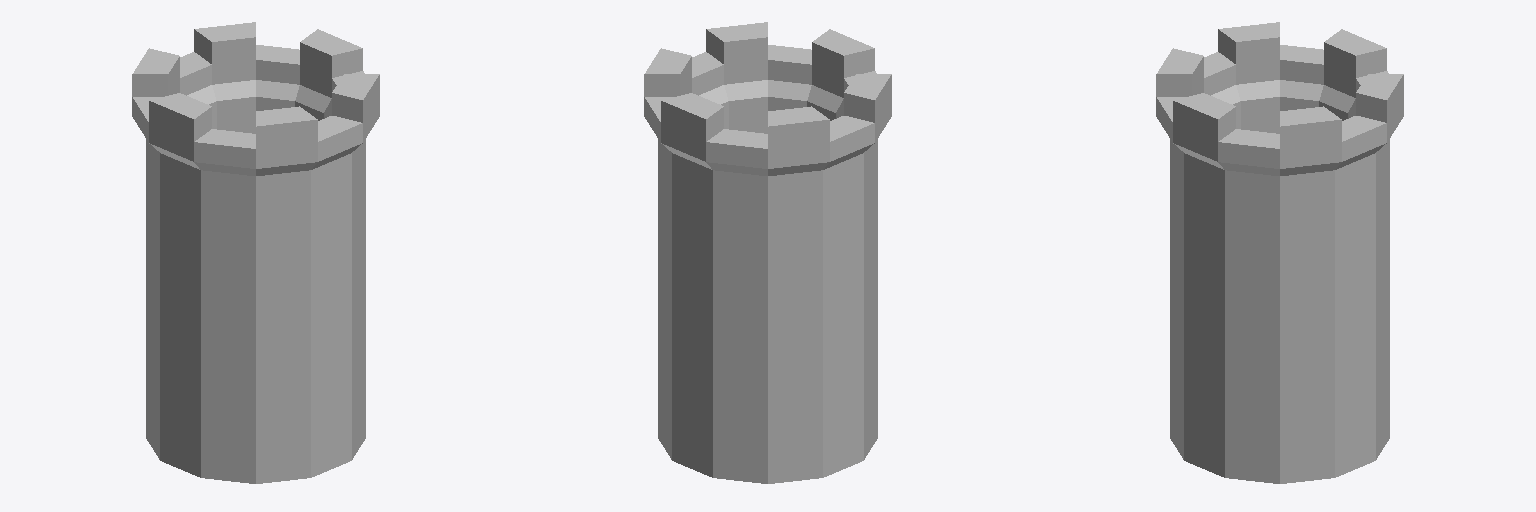
The model's file is tower.obj.
3 renders of one model, left to right at view 1: azimuth 30°, elevation 25°; view 2: azimuth 150°, elevation 25°; view 3: azimuth 270°, elevation 25°, orthographic.
Visible parts, largest first — view 1: Circle; view 2: Circle; view 3: Circle.
Part boxes in pixels (x1,y1,x2,y2): Circle: (132,22,379,483); Circle: (644,22,891,483); Circle: (1156,22,1403,483).
Bounding box in the file's own units: 1.12 × 1.82 × 1.12.